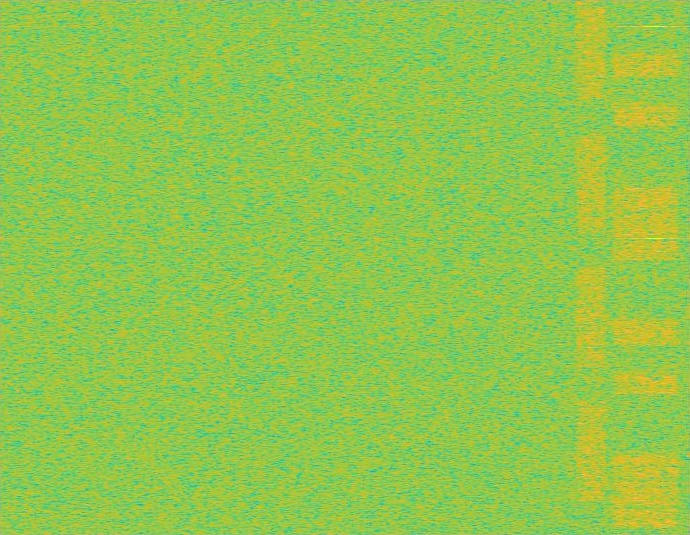5G: (575, 0, 609, 534)
LTE: (611, 0, 680, 534)
Radar: (648, 0, 662, 534)
